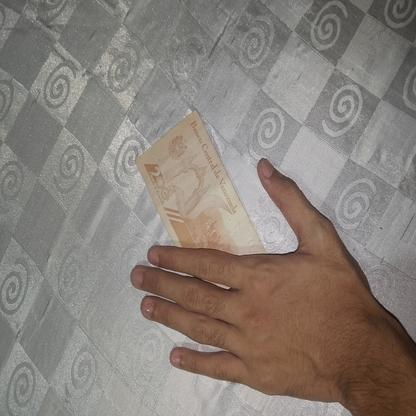twenty-back-vef: (133, 110, 266, 256)
